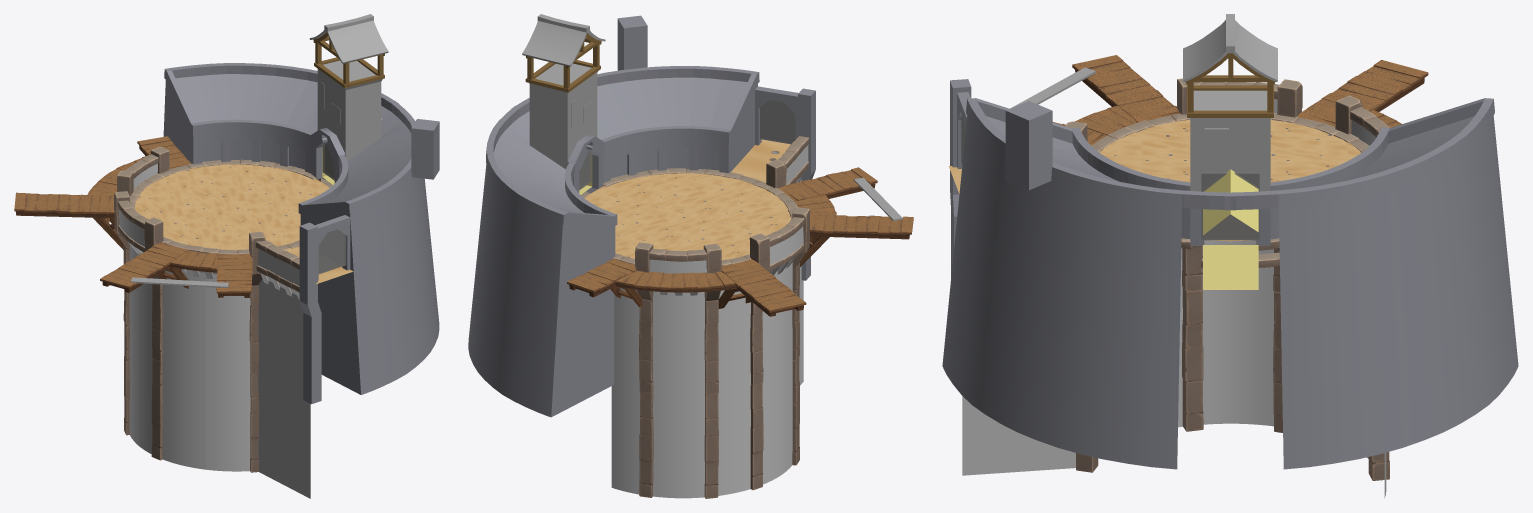
Rendered from _rena_0.4.fbx.
3 views of the same model, side by side, from view 1: azimuth 30°, elevation 25°; view 2: azimuth 150°, elevation 25°; view 3: azimuth 270°, elevation 25° (orthographic). The views are drawn at different scales.
Visible parts, largest first — view 1: polySurface27, polySurface278, polySurface223, polySurface30, polySurface29, polySurface32, polySurface383, pCube19, polySurface28, WoodenWalkway1_low, WoodenWalkway1_low3, StoneWallBorder13 (+17 smaller); view 2: polySurface29, polySurface278, polySurface223, polySurface30, polySurface27, polySurface28, polySurface383, polySurface32, WoodenWalkway1_low, WoodenWalkway1_low3, polySurface356, polySurface24 (+22 smaller); view 3: polySurface29, polySurface27, polySurface278, polySurface30, polySurface383, pCube16, pCube26, WoodenWalkway1_low, WoodenWalkway1_low3, polySurface24, Pillar_low5, polySurface32 (+13 smaller).
Boxes of the visible parts, box(x1,y1,x2,y2) form: polySurface27: box(298, 101, 439, 394); polySurface278: box(129, 337, 310, 498); polySurface223: box(119, 209, 303, 396); polySurface30: box(135, 164, 329, 250); polySurface29: box(163, 63, 398, 180); polySurface32: box(175, 74, 390, 132); polySurface383: box(317, 60, 382, 160); pCube19: box(299, 222, 321, 404); polySurface28: box(330, 112, 411, 201); WoodenWalkway1_low: box(14, 192, 123, 249); WoodenWalkway1_low3: box(100, 242, 189, 292); StoneWallBorder13: box(130, 159, 320, 254); polySurface29: box(468, 106, 617, 417); polySurface278: box(611, 280, 803, 498); polySurface223: box(614, 145, 808, 394); polySurface30: box(584, 173, 790, 260); polySurface27: box(511, 66, 759, 193); polySurface28: box(519, 77, 747, 139); polySurface383: box(529, 63, 597, 169); polySurface32: box(493, 118, 584, 212); WoodenWalkway1_low: box(718, 259, 806, 316); WoodenWalkway1_low3: box(800, 214, 913, 266); polySurface356: box(614, 271, 736, 292); polySurface24: box(522, 21, 605, 66); polySurface29: box(1224, 98, 1518, 469); polySurface27: box(942, 98, 1236, 469); polySurface278: box(962, 284, 1386, 498); polySurface30: box(1099, 119, 1360, 241); polySurface383: box(1189, 90, 1270, 191); pCube16: box(1203, 169, 1258, 289); pCube26: box(1005, 101, 1052, 190); WoodenWalkway1_low: box(1297, 60, 1428, 126); WoodenWalkway1_low3: box(1072, 55, 1179, 122); polySurface24: box(1183, 20, 1277, 82); Pillar_low5: box(1182, 287, 1203, 431); polySurface32: box(1342, 116, 1474, 181).
Bounding box in the file's own units: 3.68 × 3.8 × 3.69.
